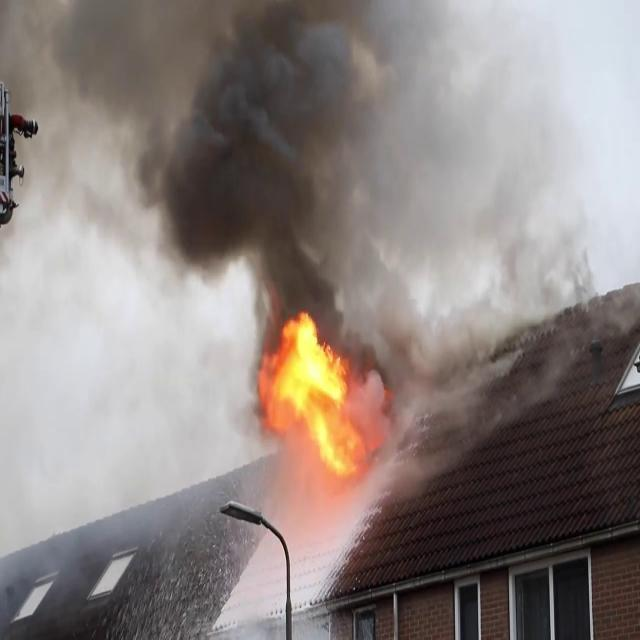Fire: (256, 304, 374, 492)
Smoke: (97, 0, 608, 324)
